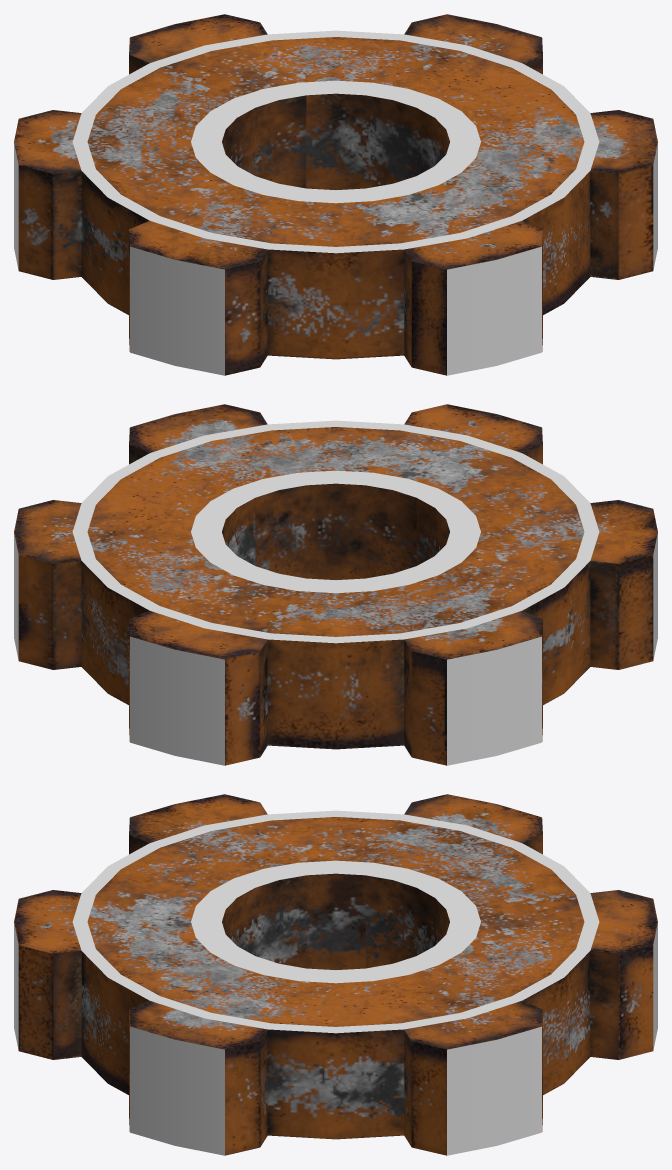
Rendered from Gear_Emissive.fbx.
3 renders of one model, top to bottom at view 1: azimuth 30°, elevation 25°; view 2: azimuth 150°, elevation 25°; view 3: azimuth 270°, elevation 25°, orthographic.
Visible parts, largest first — view 1: Gear; view 2: Gear; view 3: Gear.
Part boxes in pixels (<box>): Gear: <box>14,14,657,375</box>; Gear: <box>14,404,657,765</box>; Gear: <box>14,794,657,1155</box>.
Bounding box in the file's own units: 82.59 × 16 × 88.
